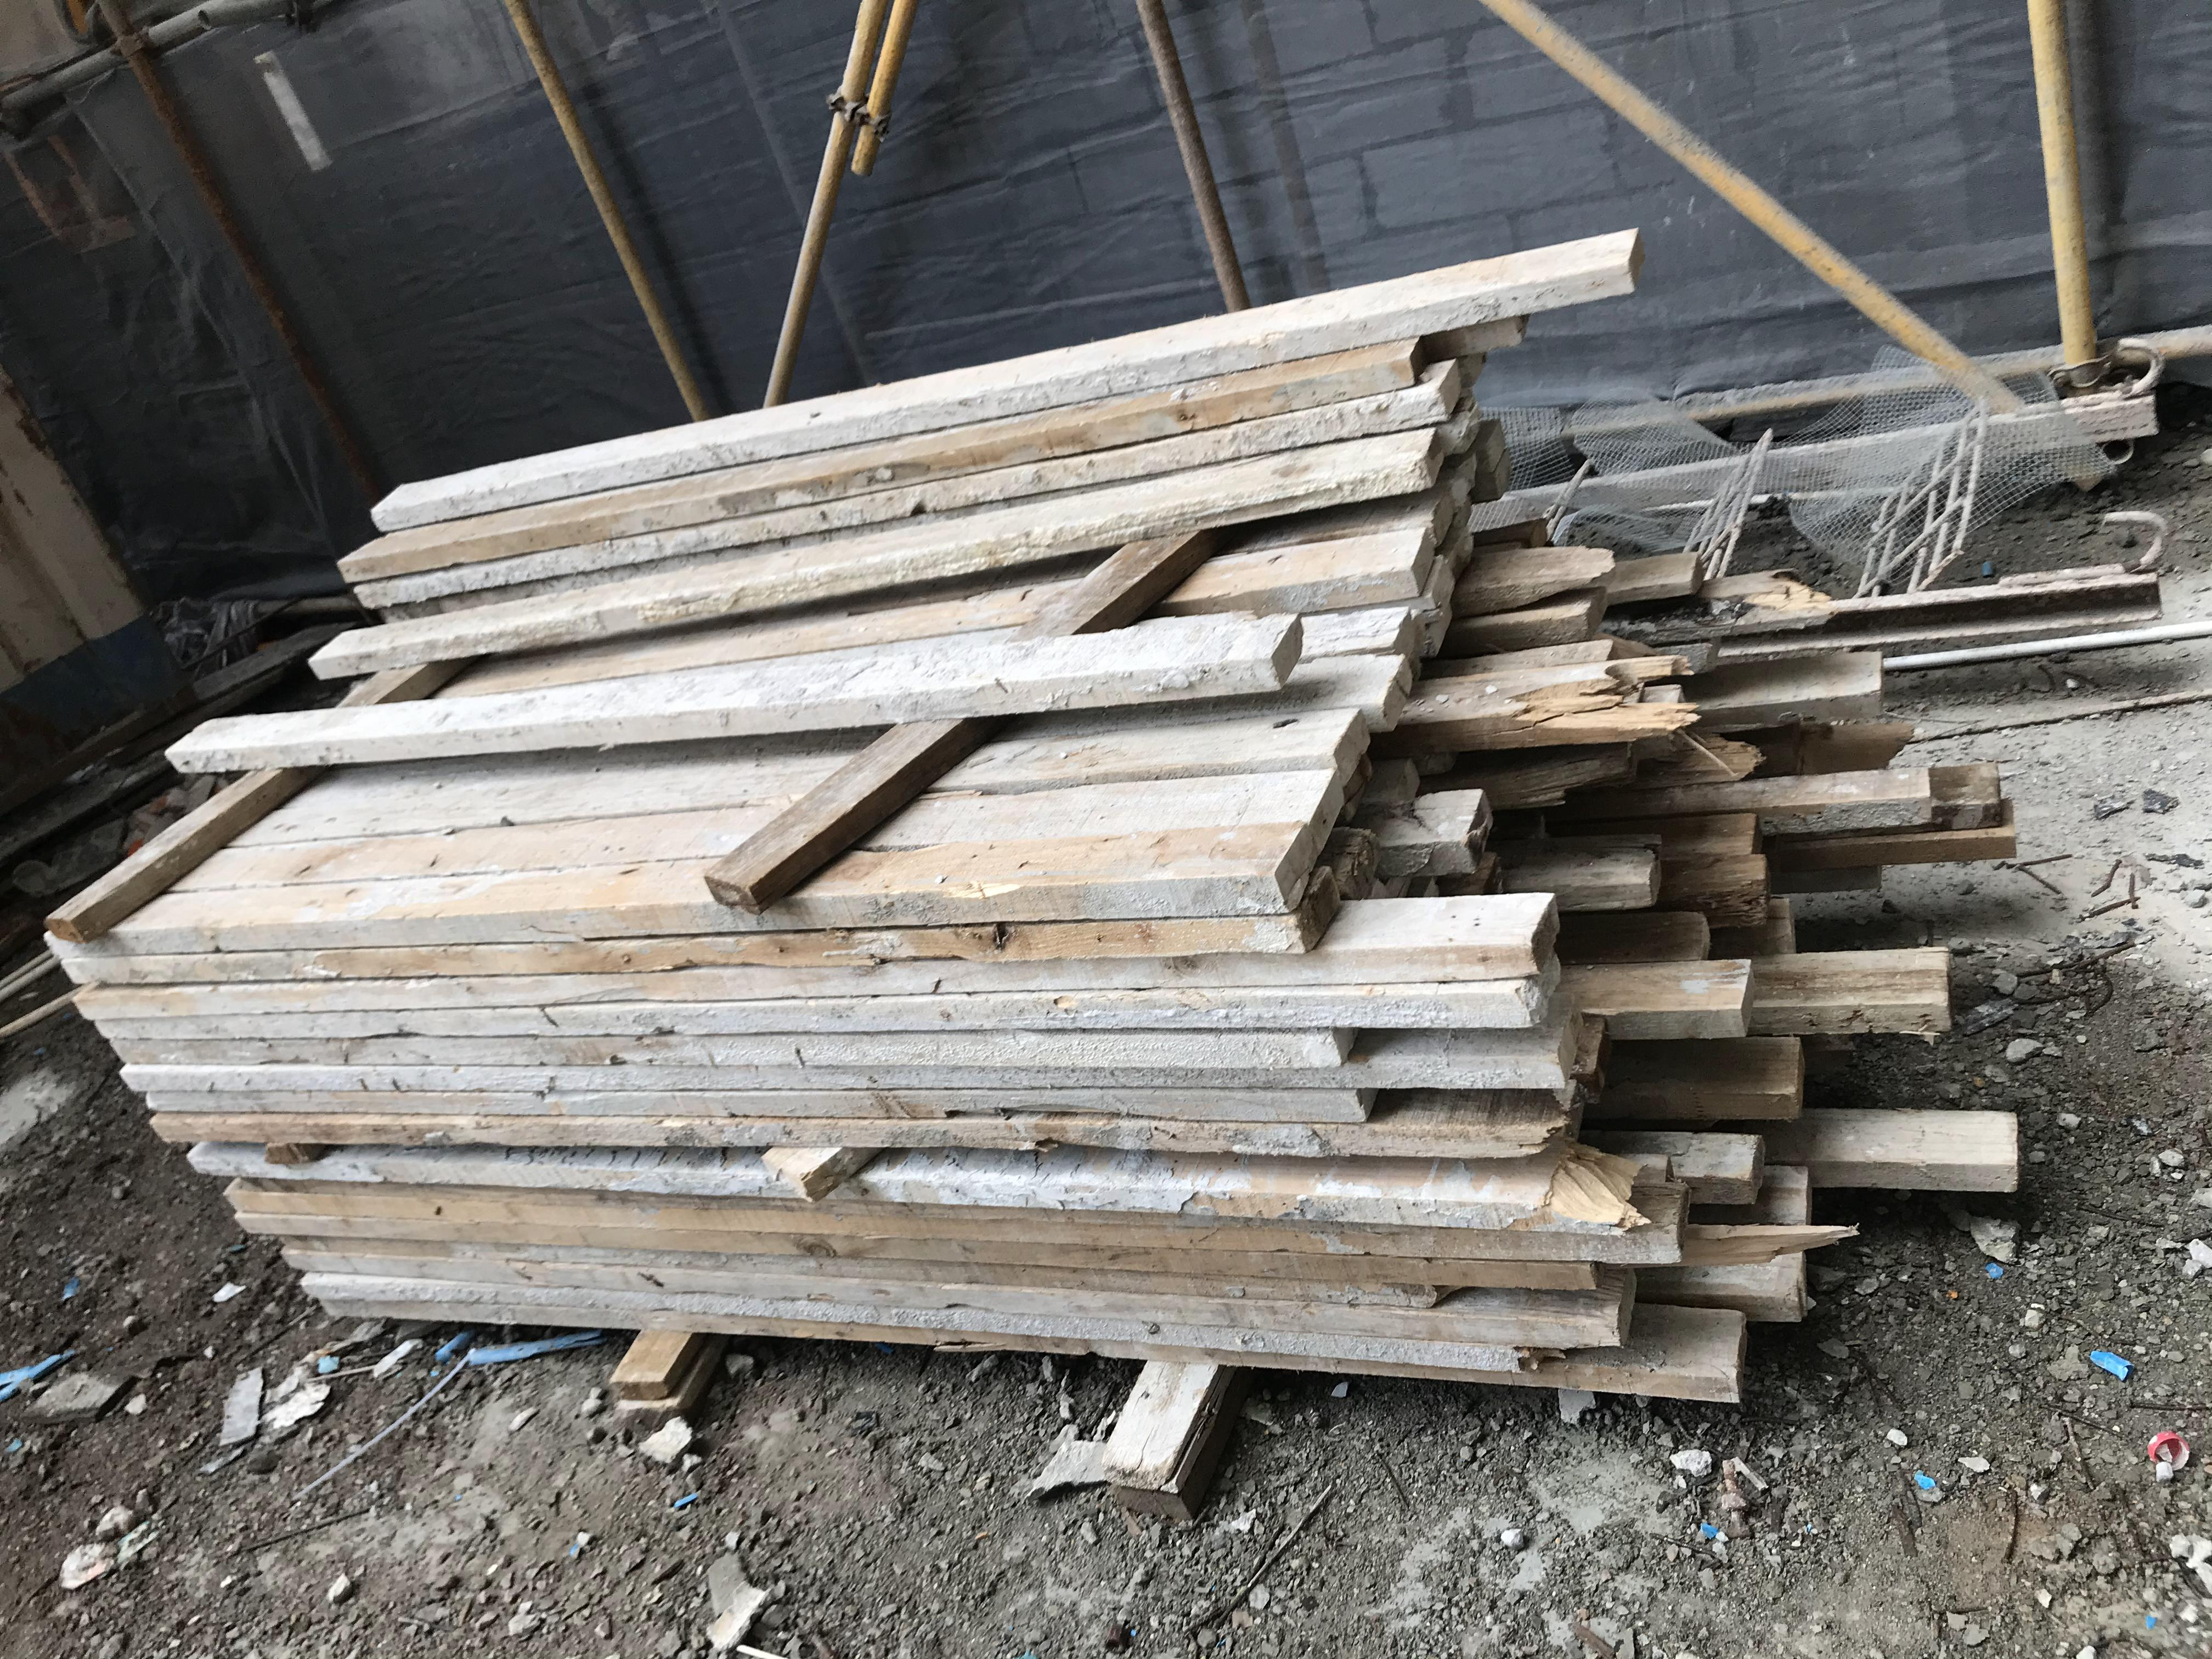wood: (31, 230, 2069, 1495)
